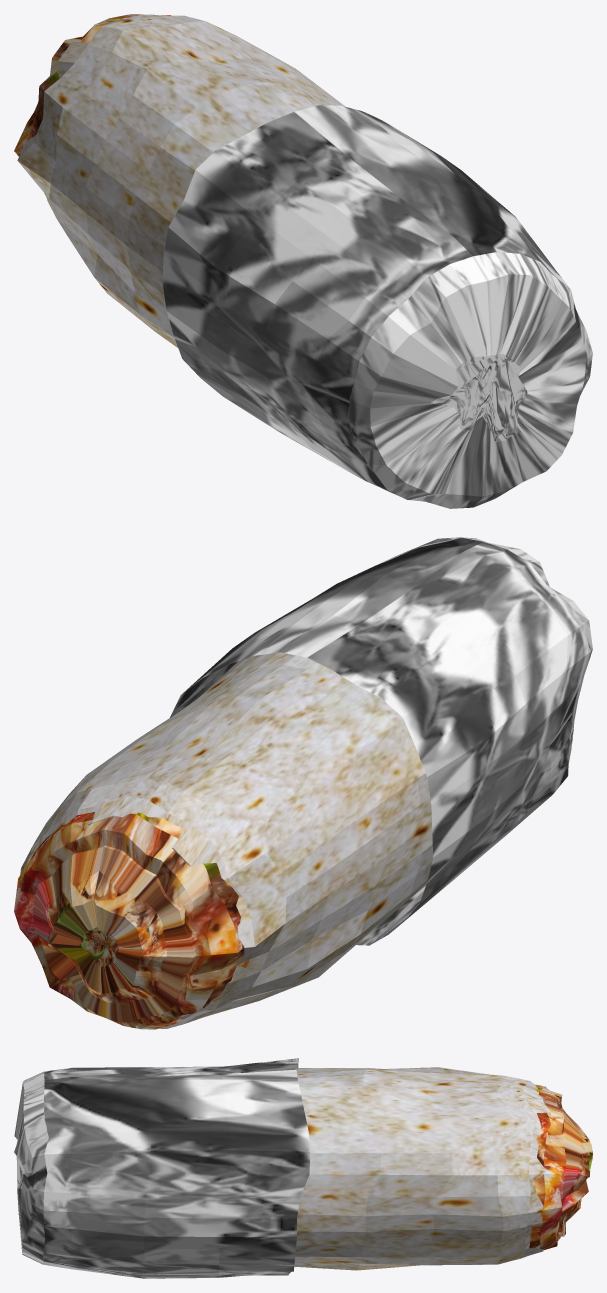
Rendered from durum.fbx.
3 renders of one model, top to bottom at view 1: azimuth 30°, elevation 25°; view 2: azimuth 150°, elevation 25°; view 3: azimuth 270°, elevation 25°, orthographic. The views are drawn at different scales.
Parts seen in each view (by area): view 1: Cylinder, Cylinder.001, Cylinder.002; view 2: Cylinder.001, Cylinder, Cylinder.002; view 3: Cylinder, Cylinder.001, Cylinder.002.
Part boxes in pixels (x1,y1,x2,y2): Cylinder: [162, 105, 592, 508]; Cylinder.001: [17, 14, 344, 347]; Cylinder.002: [14, 14, 171, 195]; Cylinder.001: [20, 652, 432, 1028]; Cylinder: [170, 537, 592, 945]; Cylinder.002: [14, 812, 249, 1029]; Cylinder: [14, 1058, 310, 1278]; Cylinder.001: [294, 1067, 551, 1270]; Cylinder.002: [529, 1084, 592, 1249].
Bounding box in the file's own units: 213 × 219 × 562.
3 materials, 3 textured.
